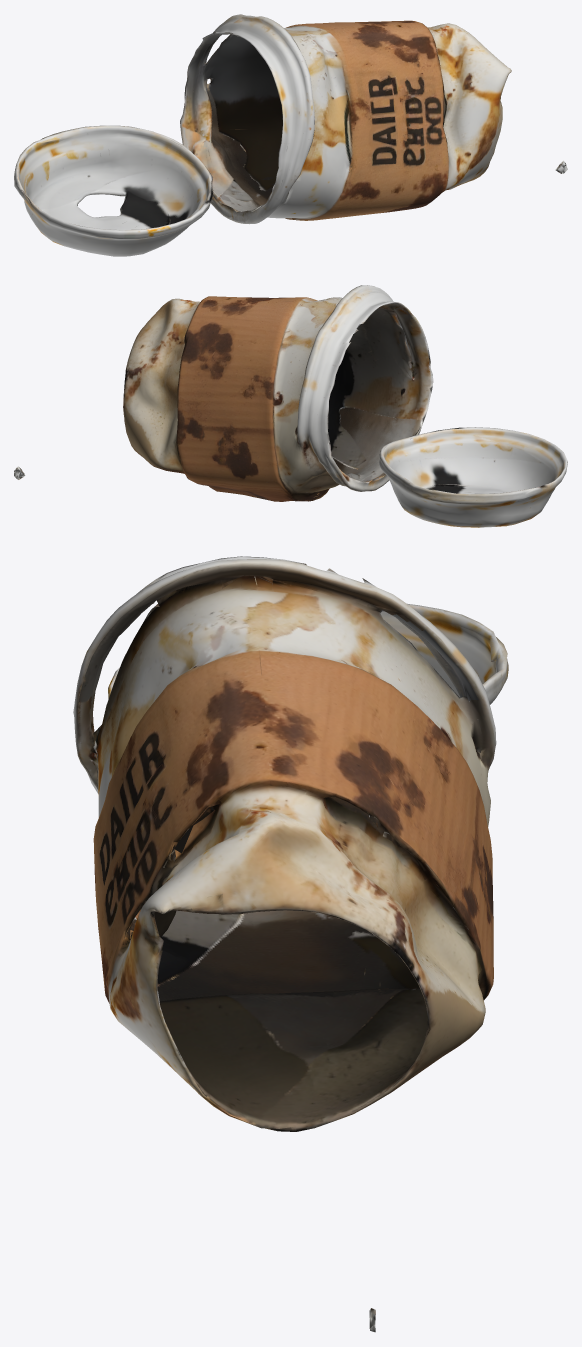
Rendered from Meshy_AI_Coffee_Spill_Chaos_0102213141_texture.fbx.
3 renders of one model, top to bottom at view 1: azimuth 30°, elevation 25°; view 2: azimuth 150°, elevation 25°; view 3: azimuth 270°, elevation 25°, orthographic. The views are drawn at different scales.
Visible parts, largest first — view 1: Mesh0; view 2: Mesh0; view 3: Mesh0.
Boxes of the visible parts, x1,y1,x2,y2 form: Mesh0: [14, 14, 567, 256]; Mesh0: [14, 285, 567, 527]; Mesh0: [73, 556, 508, 1332].
Size of the model in its own units: 190 by 83.68 by 69.12.
1 material, 1 textured.
